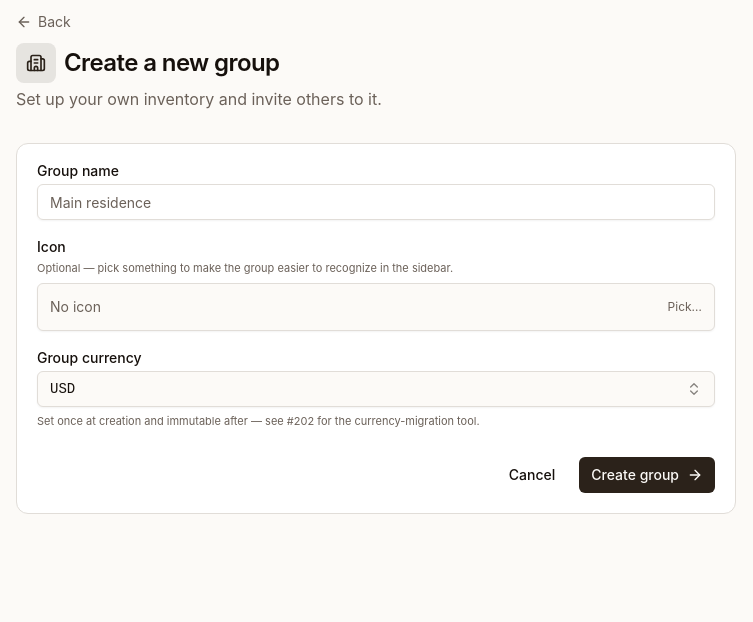
Test: <CreateGroupPage /> › surfaces server errors inline on 422
The width and height of the screenshot is (753, 622).
In the field with test id "group-name-input": (376, 202) [37,184,715,220], type "Household"
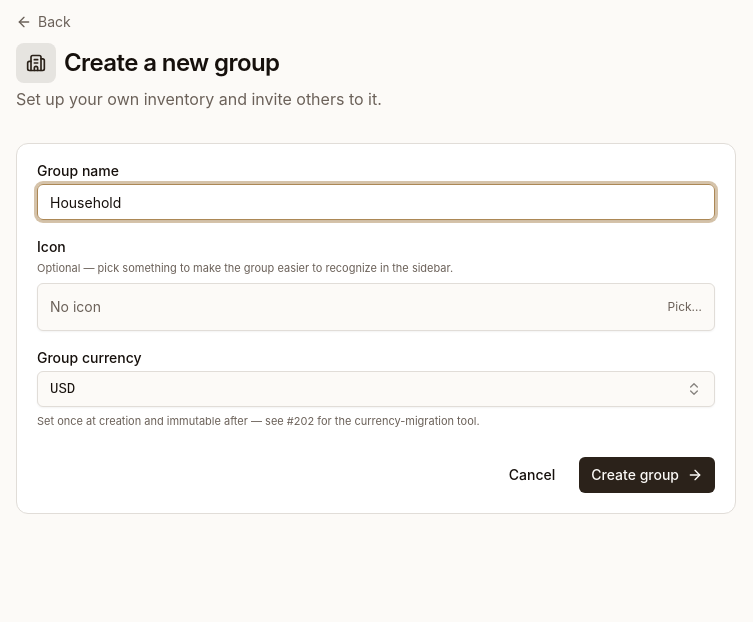
Click the button with test id "create-group-submit": (647, 475) [579,457,715,493]
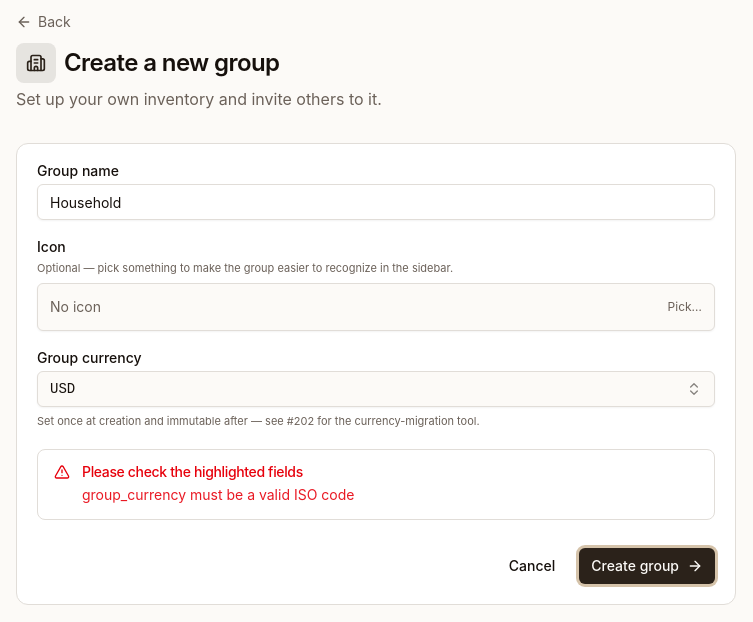
Check: the message with test id "create-group-server-error" shows "ISO code", box [82,486,354,503]
